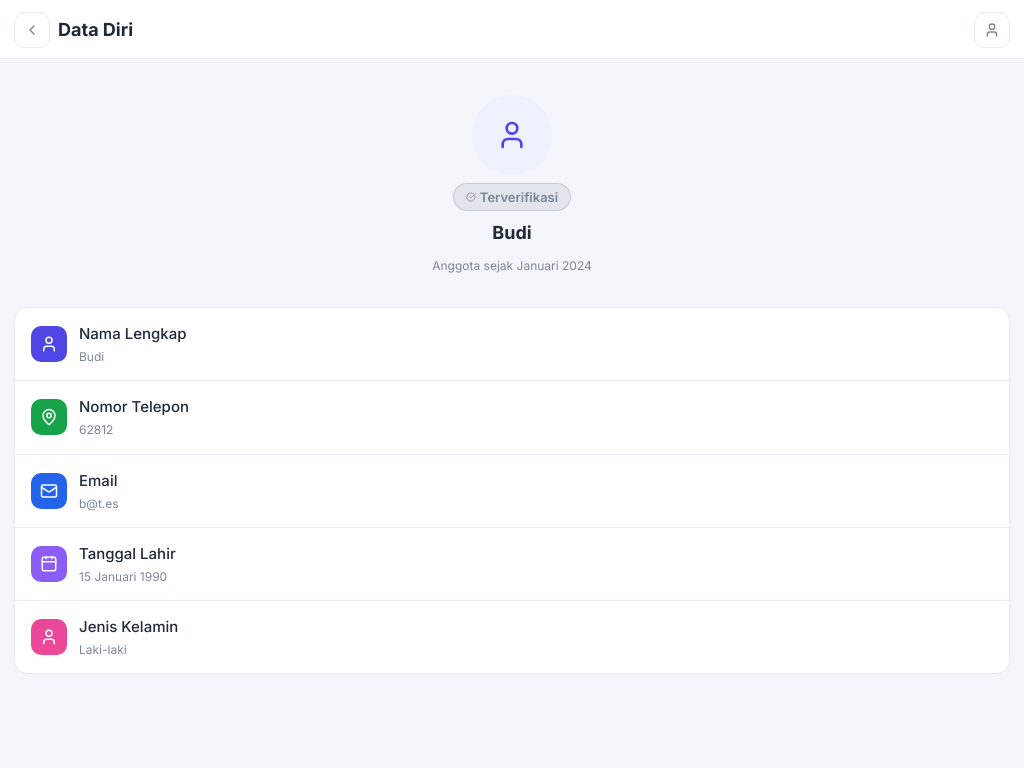
Scenario: PersonalInformation › shows edit button and toggles edit mode
This screenshot has width=1024, height=768.
Click the button named "Edit" at x=992, y=30, box [974,12,1010,48]
(page scrolled)
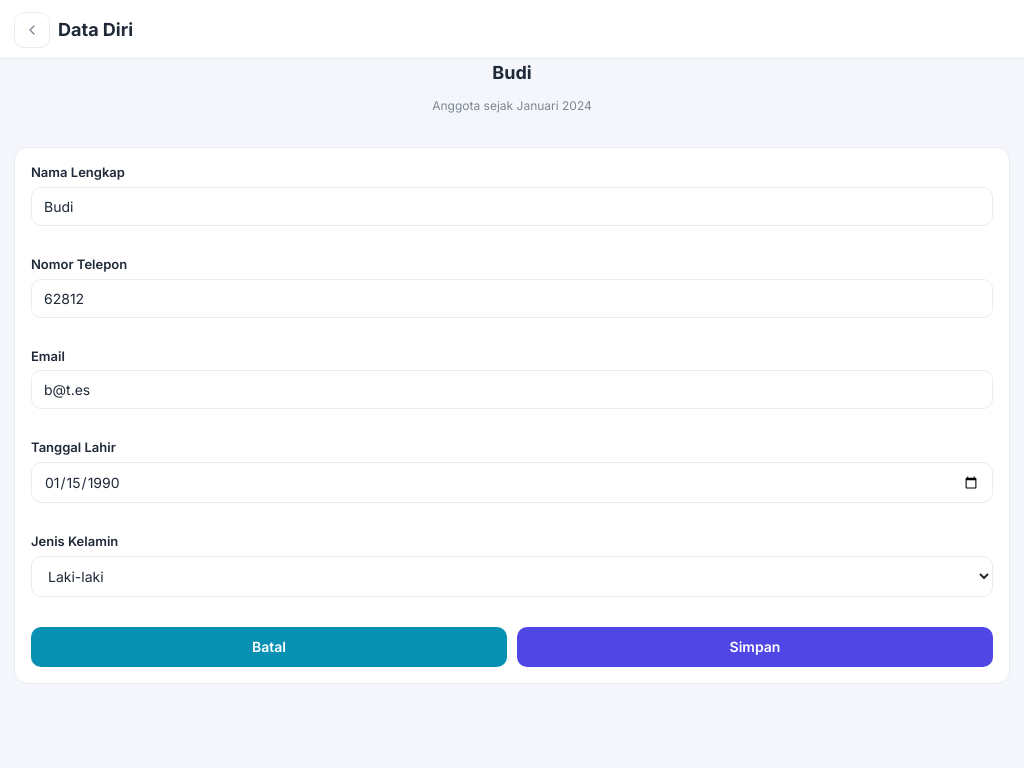
expect the text "Simpan" is shown: met, box [730,640,780,654]
expect the text "Batal" is shown: met, box [252,640,286,654]
